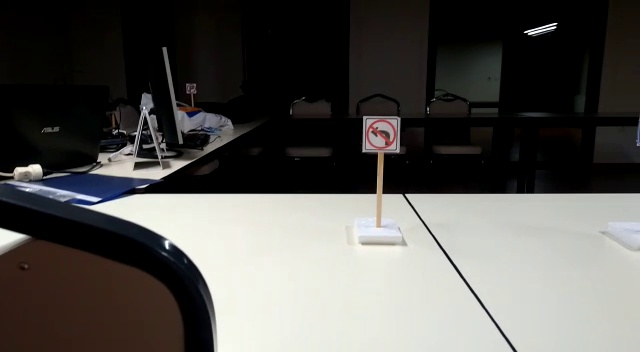sola_donulmez: (364, 116, 399, 152)
